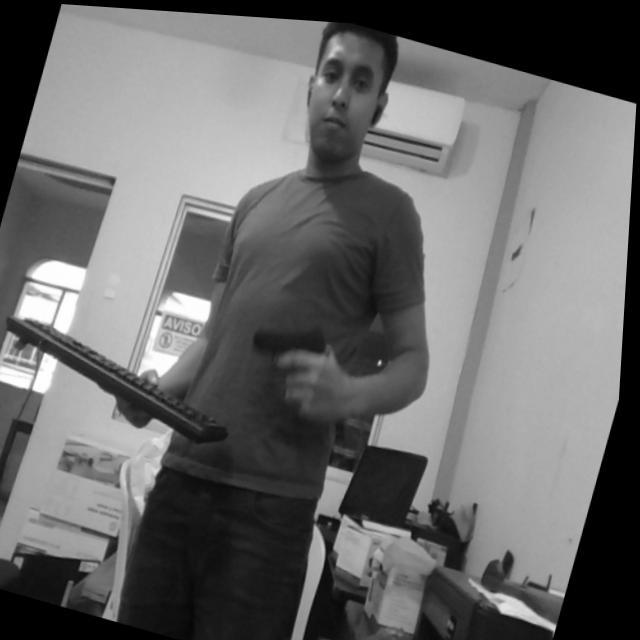weapon: (242, 300, 336, 376)
